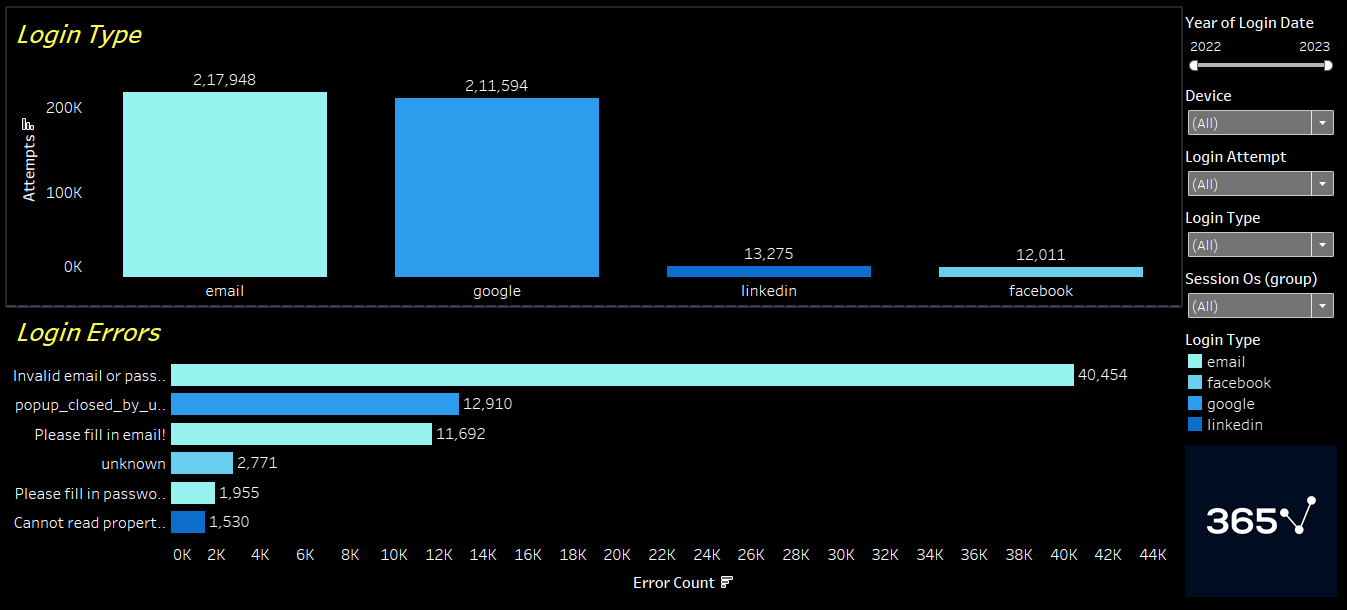

The page's visual inventory and layout, read from the dashboard file:
{"tool":"tableau","page":{"name":"Dashboard 3","canvas":[1350,612],"ordinal":2},"visuals":[{"type":"worksheet","title":"Login Type","mark":"Bar","rows":["login_types_mod.csv_67CE9EEDBD8E4E76AC5BCB4308C4ED9E"],"cols":["login_type"],"box":[8,8,1174,298]},{"type":"filter","title":"Login Type","param":"[federated.0gke2sh143t6td11u9o4d11dtx5d].[tyr:login_date:qk]","box":[1182,8,160,73]},{"type":"filter","title":"Login Type","param":"[federated.0gke2sh143t6td11u9o4d11dtx5d].[none:device:nk]","box":[1182,81,160,61]},{"type":"filter","title":"Login Type","param":"[federated.0gke2sh143t6td11u9o4d11dtx5d].[none:login_attempt:nk]","box":[1182,142,160,61]},{"type":"filter","title":"Login Type","param":"[federated.0gke2sh143t6td11u9o4d11dtx5d].[none:login_type:nk]","box":[1182,203,160,61]},{"type":"filter","title":"Login Type","param":"[federated.0gke2sh143t6td11u9o4d11dtx5d].[Session Os (group)]","box":[1182,264,160,61]},{"type":"worksheet","title":"Login Errors","mark":"Automatic","rows":["error_message"],"cols":["login_types_mod.csv_67CE9EEDBD8E4E76AC5BCB4308C4ED9E"],"box":[8,306,1174,298]},{"type":"legend","title":"Login Type","param":"[federated.0gke2sh143t6td11u9o4d11dtx5d].[none:login_type:nk]","box":[1182,325,160,114]},{"type":"image","param":"C:/Users/singh/Downloads/sql+tableau.twb Files/Image/0x0.png","box":[1182,439,160,165]}]}

Visuals, with their boxes in screenshot pixels (x1, y1, x2, y2), scaled from the page's 1350x612 canvas onto the 1347x610 screenshot:
"Login Type" worksheet (Bar marks): Rect(8, 8, 1179, 305)
"Login Type" filter: Rect(1179, 8, 1339, 81)
"Login Type" filter: Rect(1179, 81, 1339, 142)
"Login Type" filter: Rect(1179, 142, 1339, 202)
"Login Type" filter: Rect(1179, 202, 1339, 263)
"Login Type" filter: Rect(1179, 263, 1339, 324)
"Login Errors" worksheet: Rect(8, 305, 1179, 602)
"Login Type" legend: Rect(1179, 324, 1339, 438)
image: Rect(1179, 438, 1339, 602)
